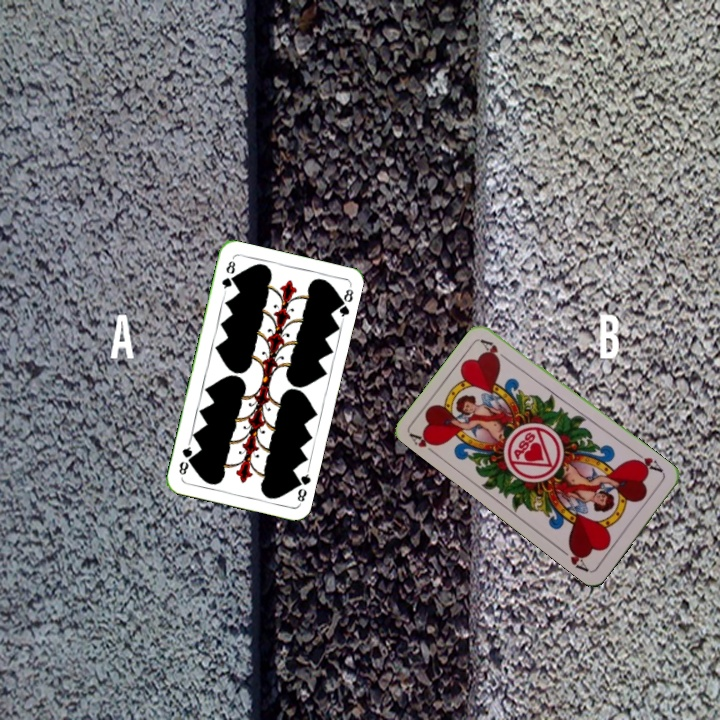G8: (291, 466, 313, 506), (217, 257, 238, 295)
HA: (629, 448, 667, 477), (406, 429, 442, 459)
